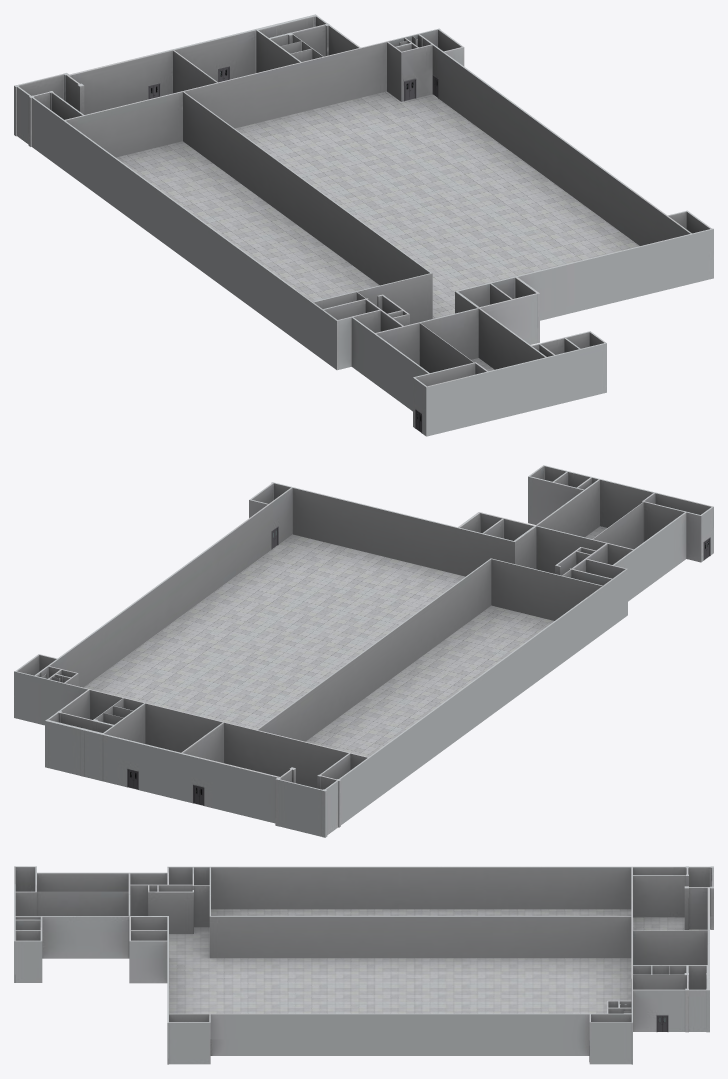
The model's file is LXWZ_6-1F.glb.
3 renders of one model, top to bottom at view 1: azimuth 30°, elevation 25°; view 2: azimuth 150°, elevation 25°; view 3: azimuth 270°, elevation 25°, orthographic. The views are drawn at different scales.
Size of the model in its own units: 49.18 by 6.13 by 92.86.
Materials: 2 (2 with a texture image).
